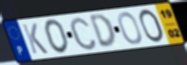C: (68, 16, 99, 52)
D: (88, 13, 118, 49)
K: (21, 22, 50, 56)
O: (138, 8, 166, 44), (44, 19, 71, 55), (117, 11, 143, 45)
